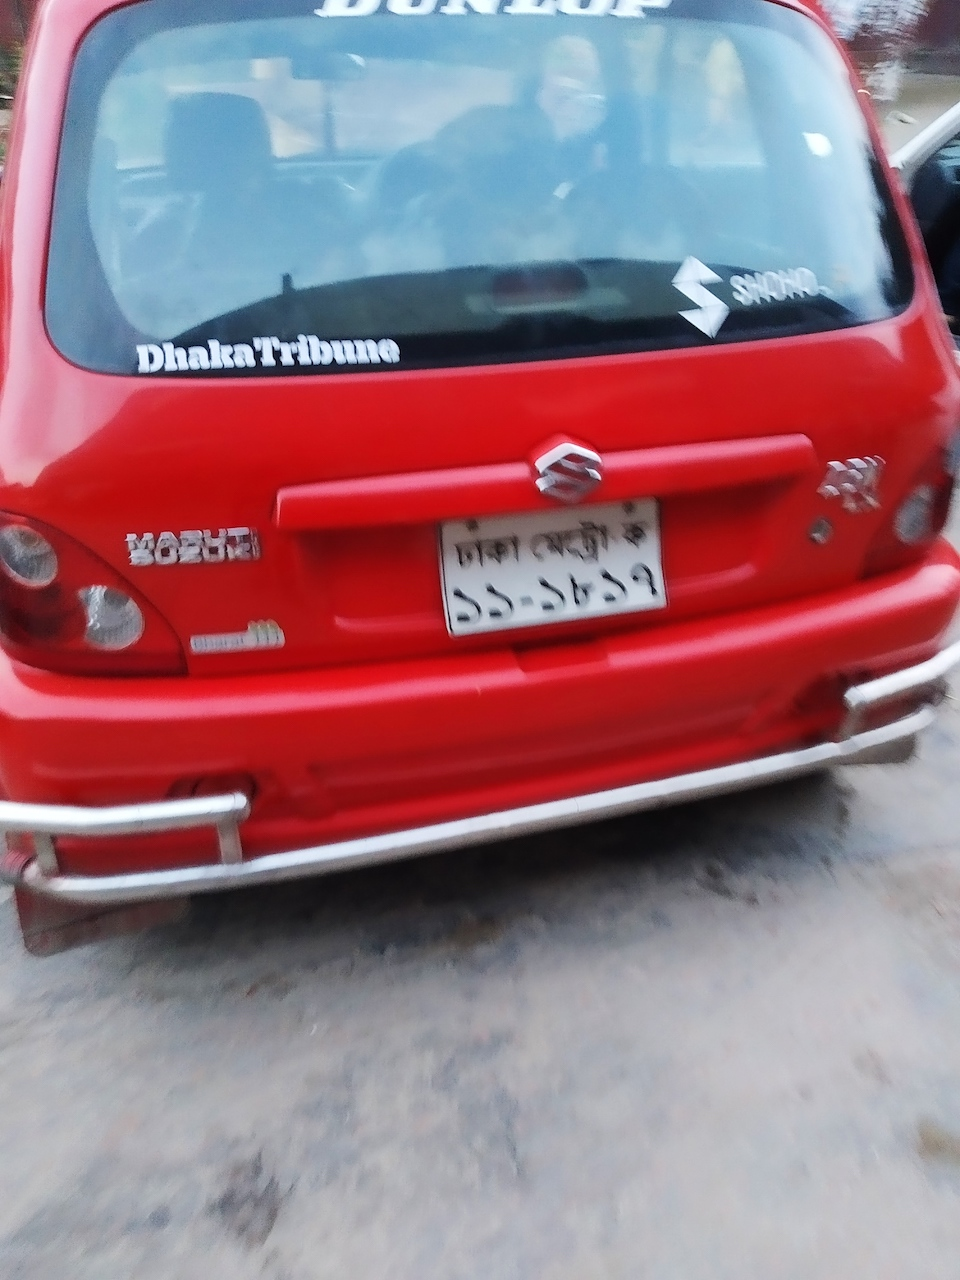registration_plate: (438, 494, 669, 638)
